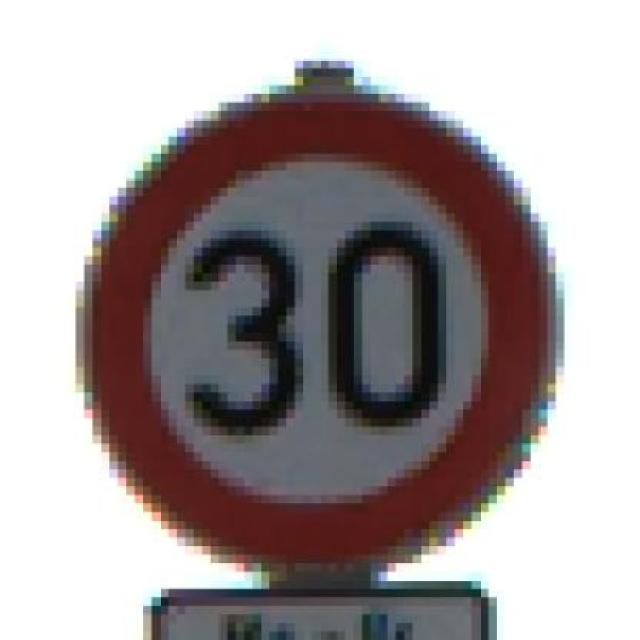Speed Limit 30 KMPh: (67, 9, 581, 588)
